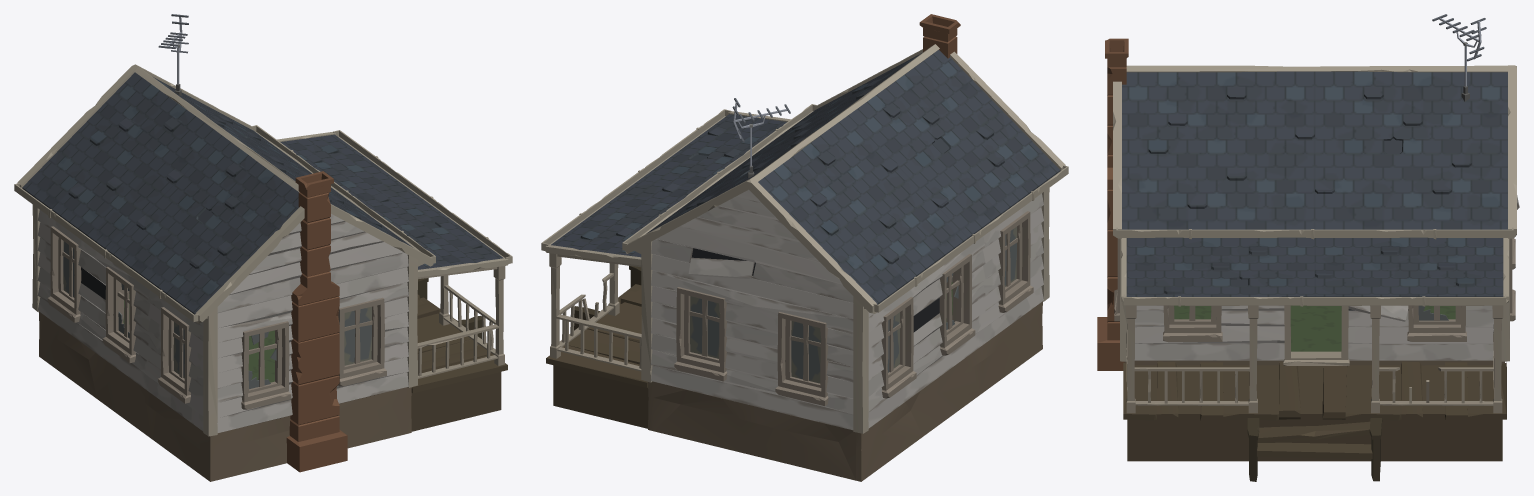
File: Sc_House_05.fbx
3 renders of one model, left to right at view 1: azimuth 30°, elevation 25°; view 2: azimuth 150°, elevation 25°; view 3: azimuth 270°, elevation 25°, orthographic. The views are drawn at different scales.
Visible parts, largest first — view 1: SM_Bld_House_03, SM_Prop_Roof_Satellite_01__1_; view 2: SM_Bld_House_03, SM_Prop_Roof_Satellite_01__1_; view 3: SM_Bld_House_03, SM_Prop_Roof_Satellite_01__1_.
Part boxes in pixels (x1,y1,x2,y2): SM_Bld_House_03: (14, 64, 512, 481); SM_Prop_Roof_Satellite_01__1_: (158, 14, 188, 95); SM_Bld_House_03: (541, 14, 1068, 481); SM_Prop_Roof_Satellite_01__1_: (732, 98, 790, 178); SM_Bld_House_03: (1097, 38, 1519, 481); SM_Prop_Roof_Satellite_01__1_: (1432, 14, 1486, 101).
Bounding box in the file's own units: 921 × 797 × 864.
Materials: 3 (3 with a texture image).
